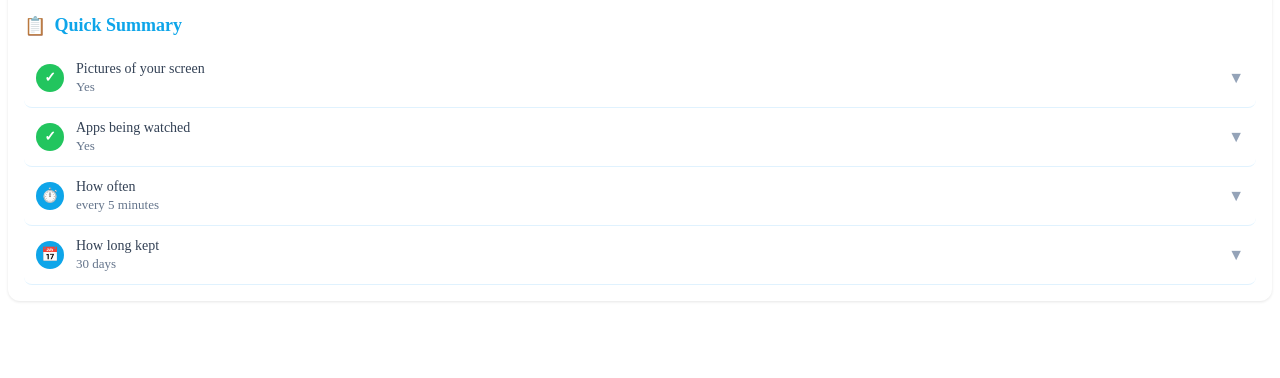
AgreementChecklist › Task 6.2: Expand/collapse functionality › should show details when item is clicked
Click the button with test id "checklist-item-screenshots" at {"x": 140, "y": 68}, box x1=24 y1=49 x2=1256 y2=108
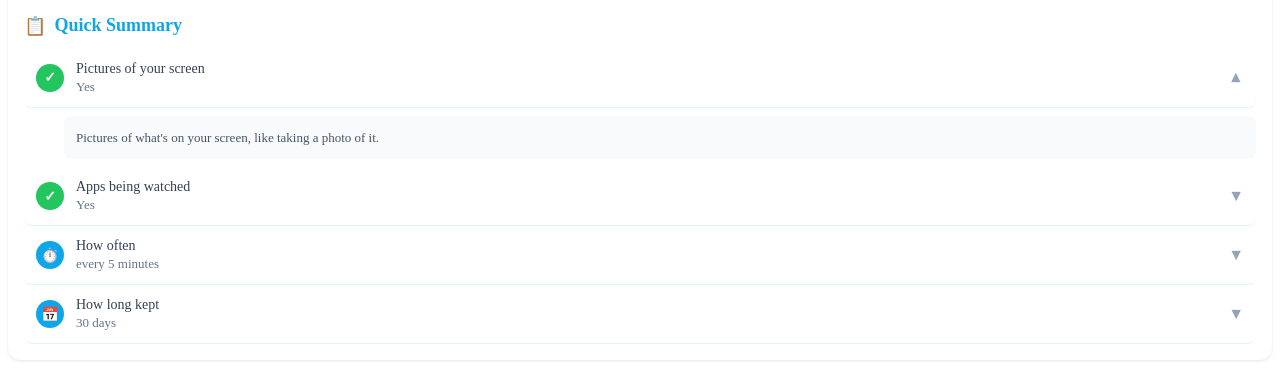
Now the text with test id "checklist-item-screenshots-details" is shown, box x1=64 y1=116 x2=1256 y2=159
